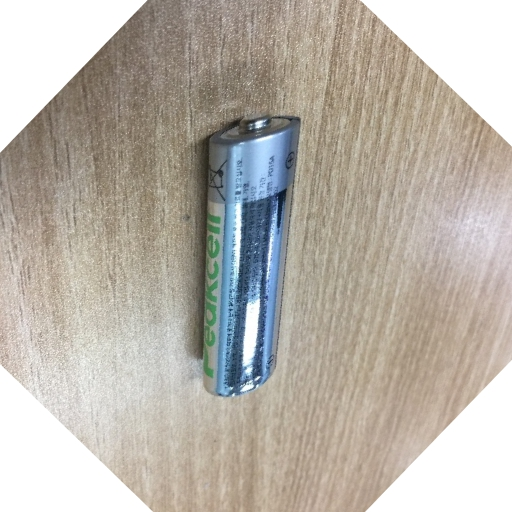Battery_0: (198, 102, 310, 406)
